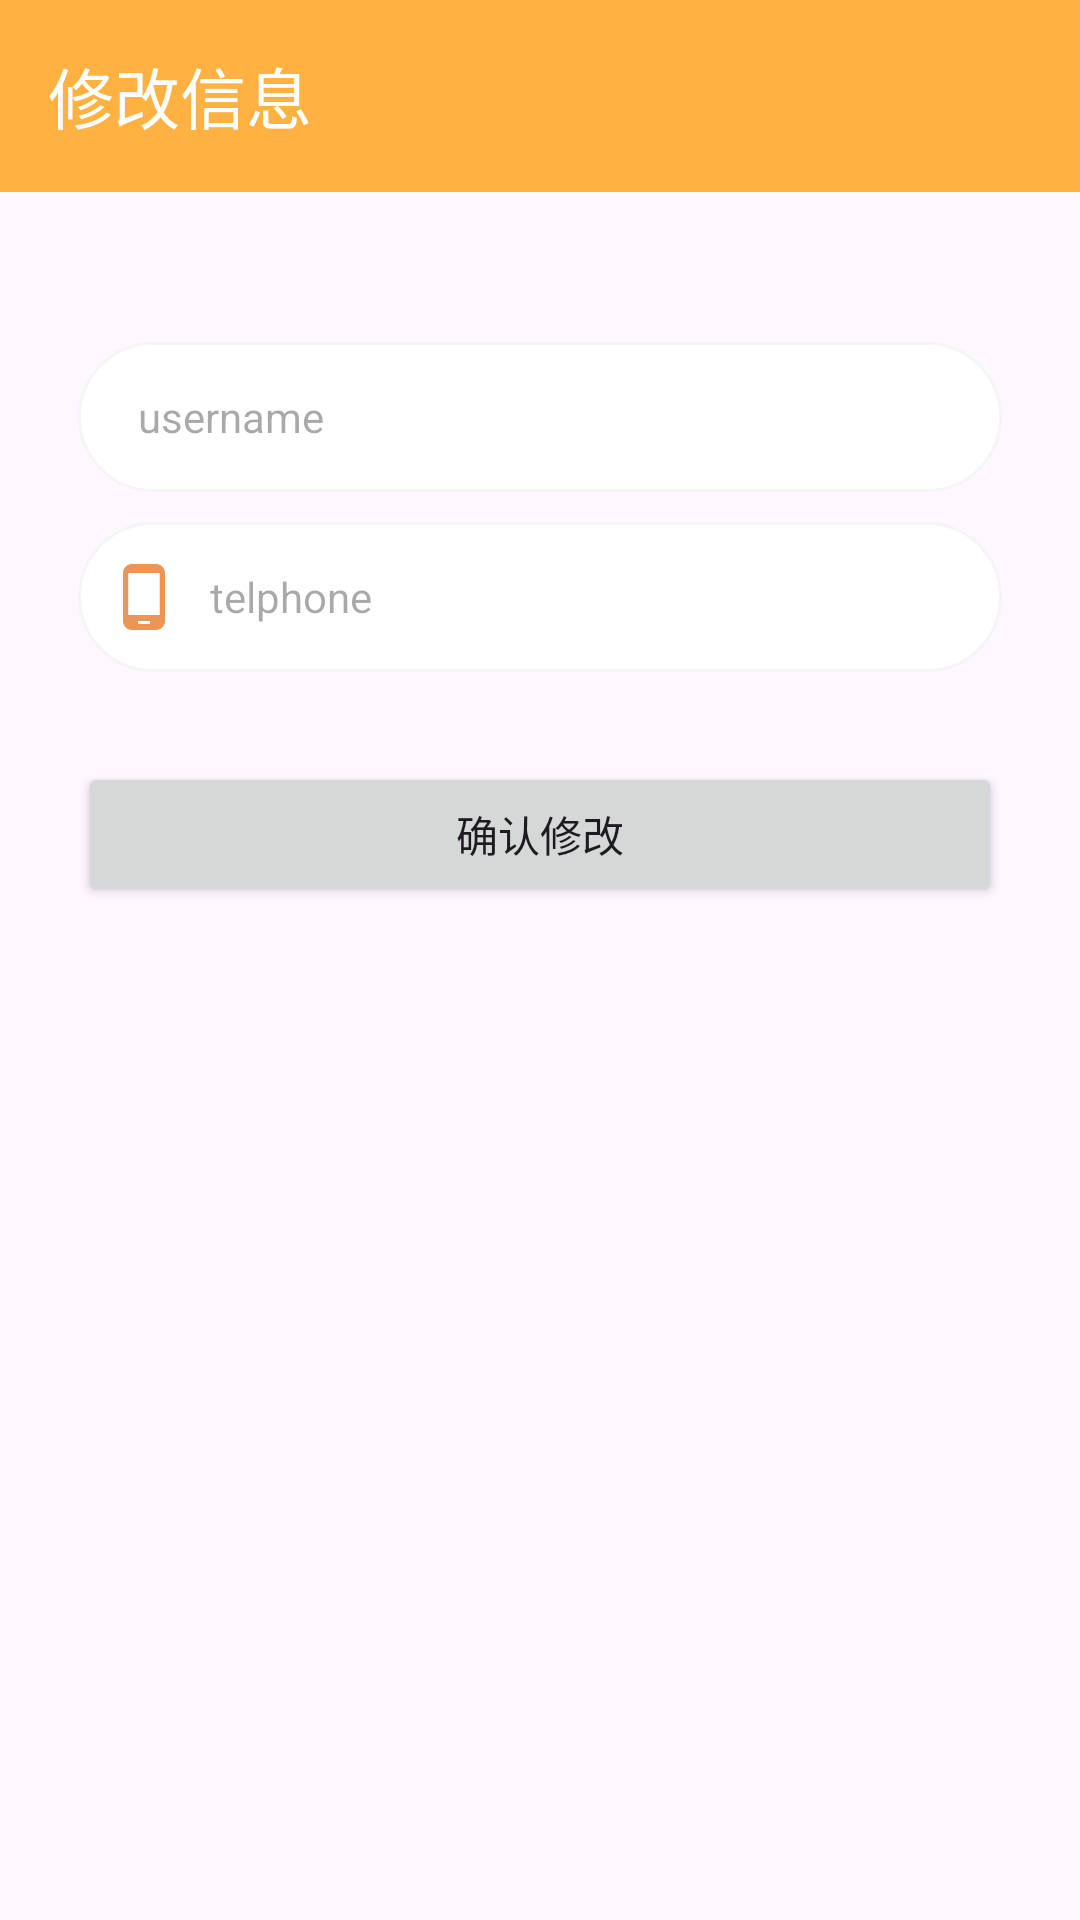

Where to tap for icons on this 1080px×1920px app screen, as [x,y]:
phone android: [144,597]
